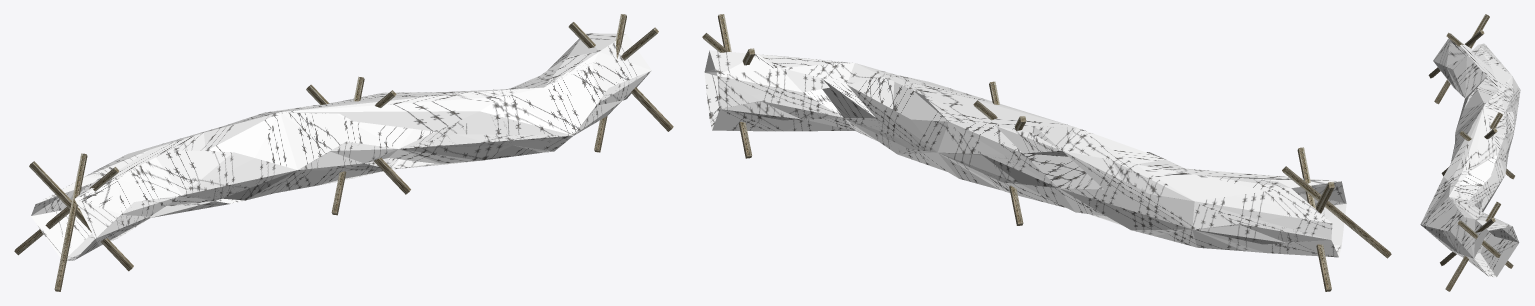
Rendered from Citycablo.fbx.
3 renders of one model, left to right at view 1: azimuth 30°, elevation 25°; view 2: azimuth 150°, elevation 25°; view 3: azimuth 270°, elevation 25°, orthographic. The views are drawn at different scales.
Visible parts, largest first — view 1: barb, wood; view 2: barb, wood; view 3: barb, wood.
Part boxes in pixels (x1=…): barb: x1=31, y1=33, x2=651, y2=260; wood: x1=14, y1=14, x2=673, y2=291; barb: x1=704, y1=50, x2=1346, y2=257; wood: x1=702, y1=14, x2=1391, y2=291; barb: x1=1420, y1=38, x2=1520, y2=277; wood: x1=1428, y1=14, x2=1514, y2=291.
Size of the model in its own units: 10.05 by 1.49 by 1.97.
